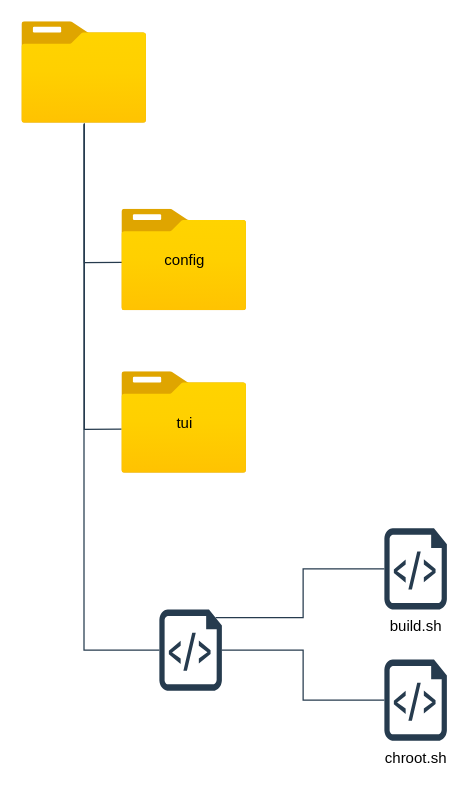
The diagram is 468 pixels wide and 788 high, and some of its shapes have lost their labels. The centre of each missing label's shape, as x and y in pixels:
arch-on-usb (repo root): [83,72]
deploy: [190,649]
